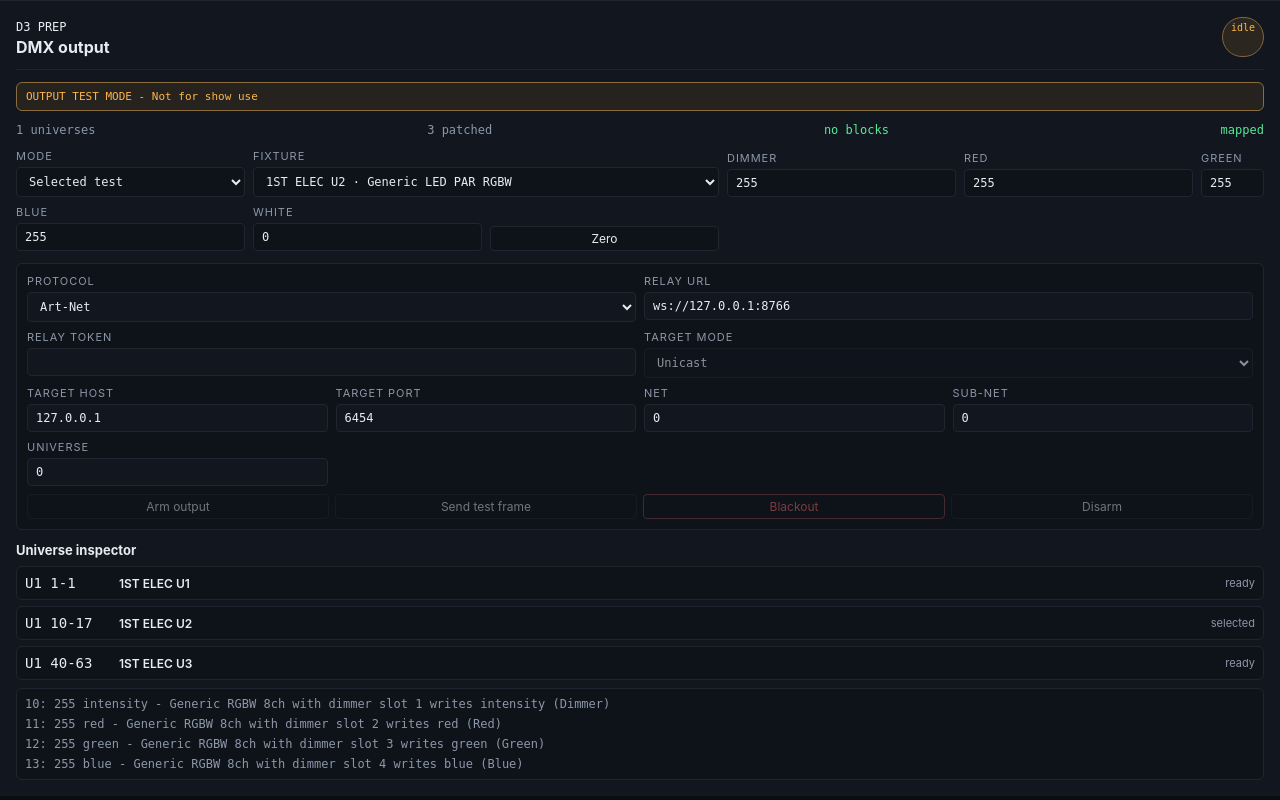
it: DmxOutputPanel › switches to blackout preview without nonzero slots
Select "Blackout" in the dropdown labelled "Mode" at [130, 182], box [16, 167, 245, 197]
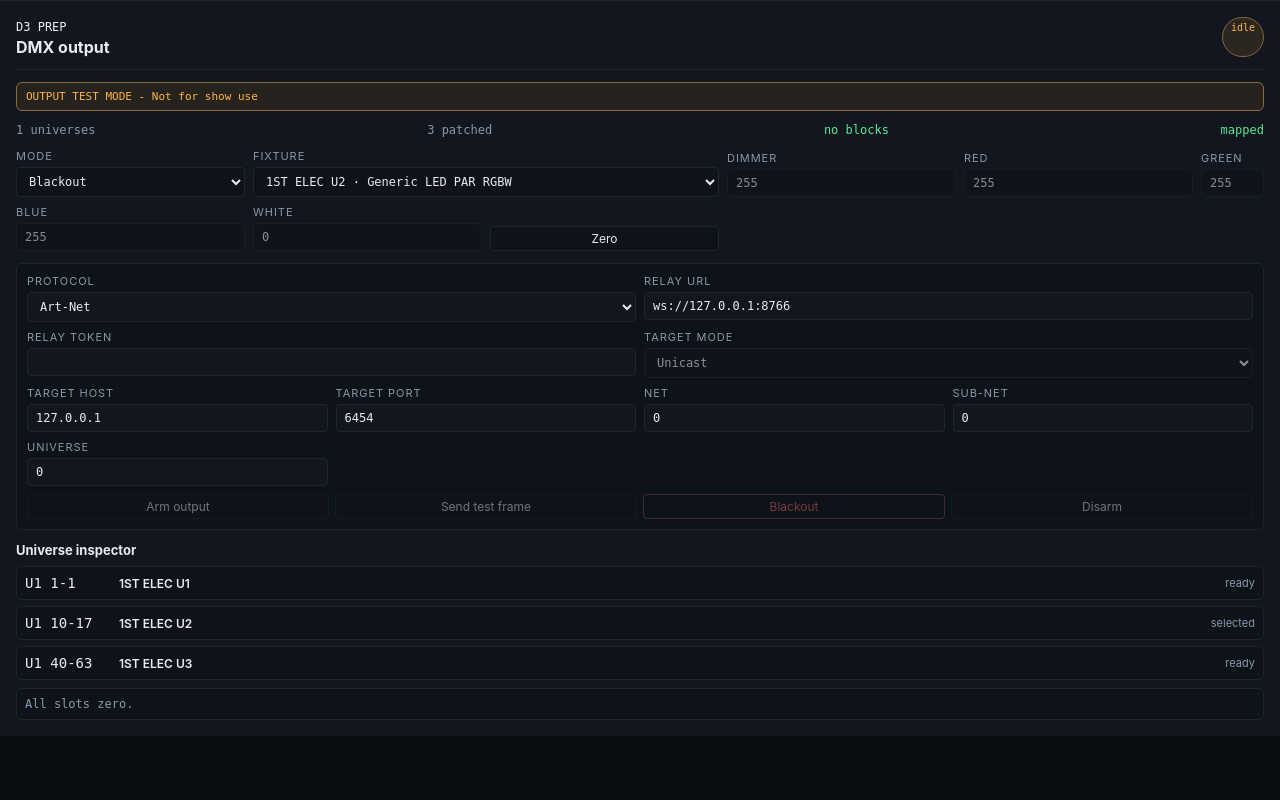
Check: the text "All slots zero." is shown, box [25, 697, 133, 711]
Check: the number field labelled "Dimmer" is disabled, box [727, 169, 956, 197]
